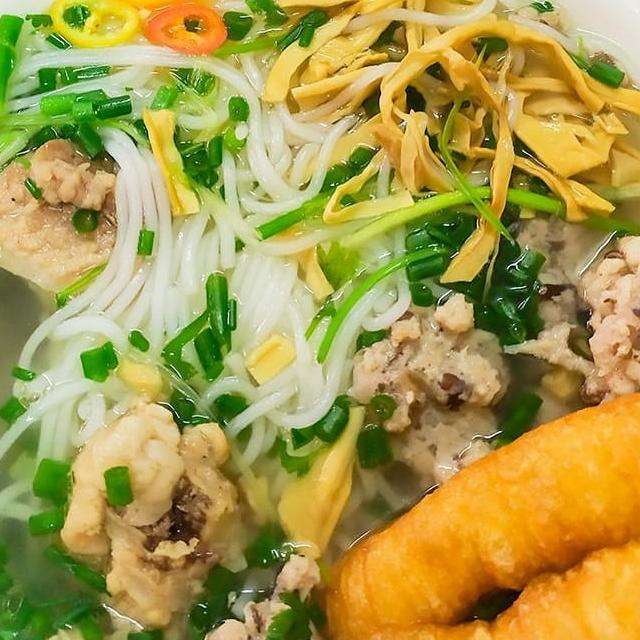bun: (11, 44, 421, 482)
vien moc: (335, 285, 510, 490), (500, 207, 640, 412), (167, 550, 341, 640)
